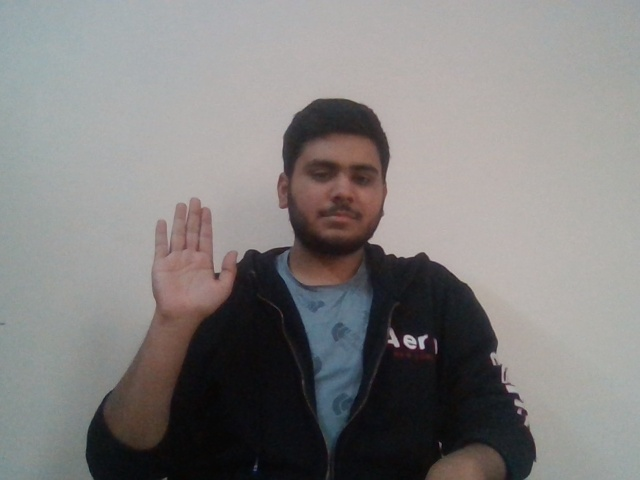Hello: (139, 195, 243, 308)
